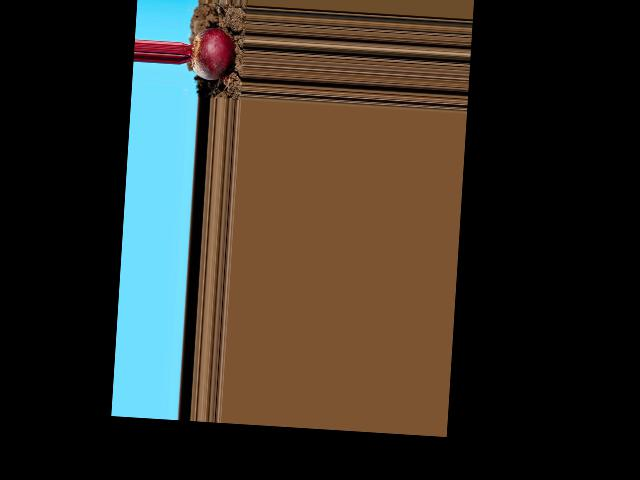beet: (179, 26, 236, 82)
